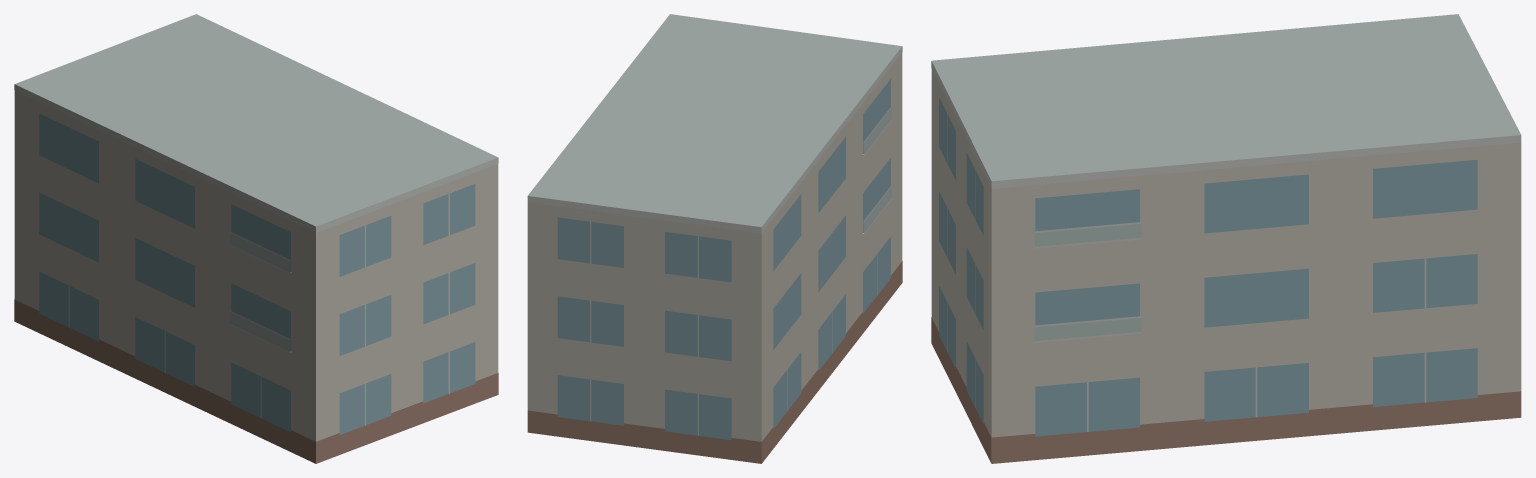
Rendered from survey-upis-32918558.glb.
3 views of the same model, side by side, from view 1: azimuth 30°, elevation 25°; view 2: azimuth 150°, elevation 25°; view 3: azimuth 270°, elevation 25° (orthographic). The views are drawn at different scales.
Parts seen in each view (by area): view 1: survey-upis-32918558.tmp; view 2: survey-upis-32918558.tmp; view 3: survey-upis-32918558.tmp.
Part boxes in pixels (left/top/right/bottom): survey-upis-32918558.tmp: left=14, top=14, right=498, bottom=463; survey-upis-32918558.tmp: left=527, top=14, right=902, bottom=463; survey-upis-32918558.tmp: left=931, top=14, right=1521, bottom=463.
Bounding box in the file's own units: 11.63 × 9.15 × 17.32.
